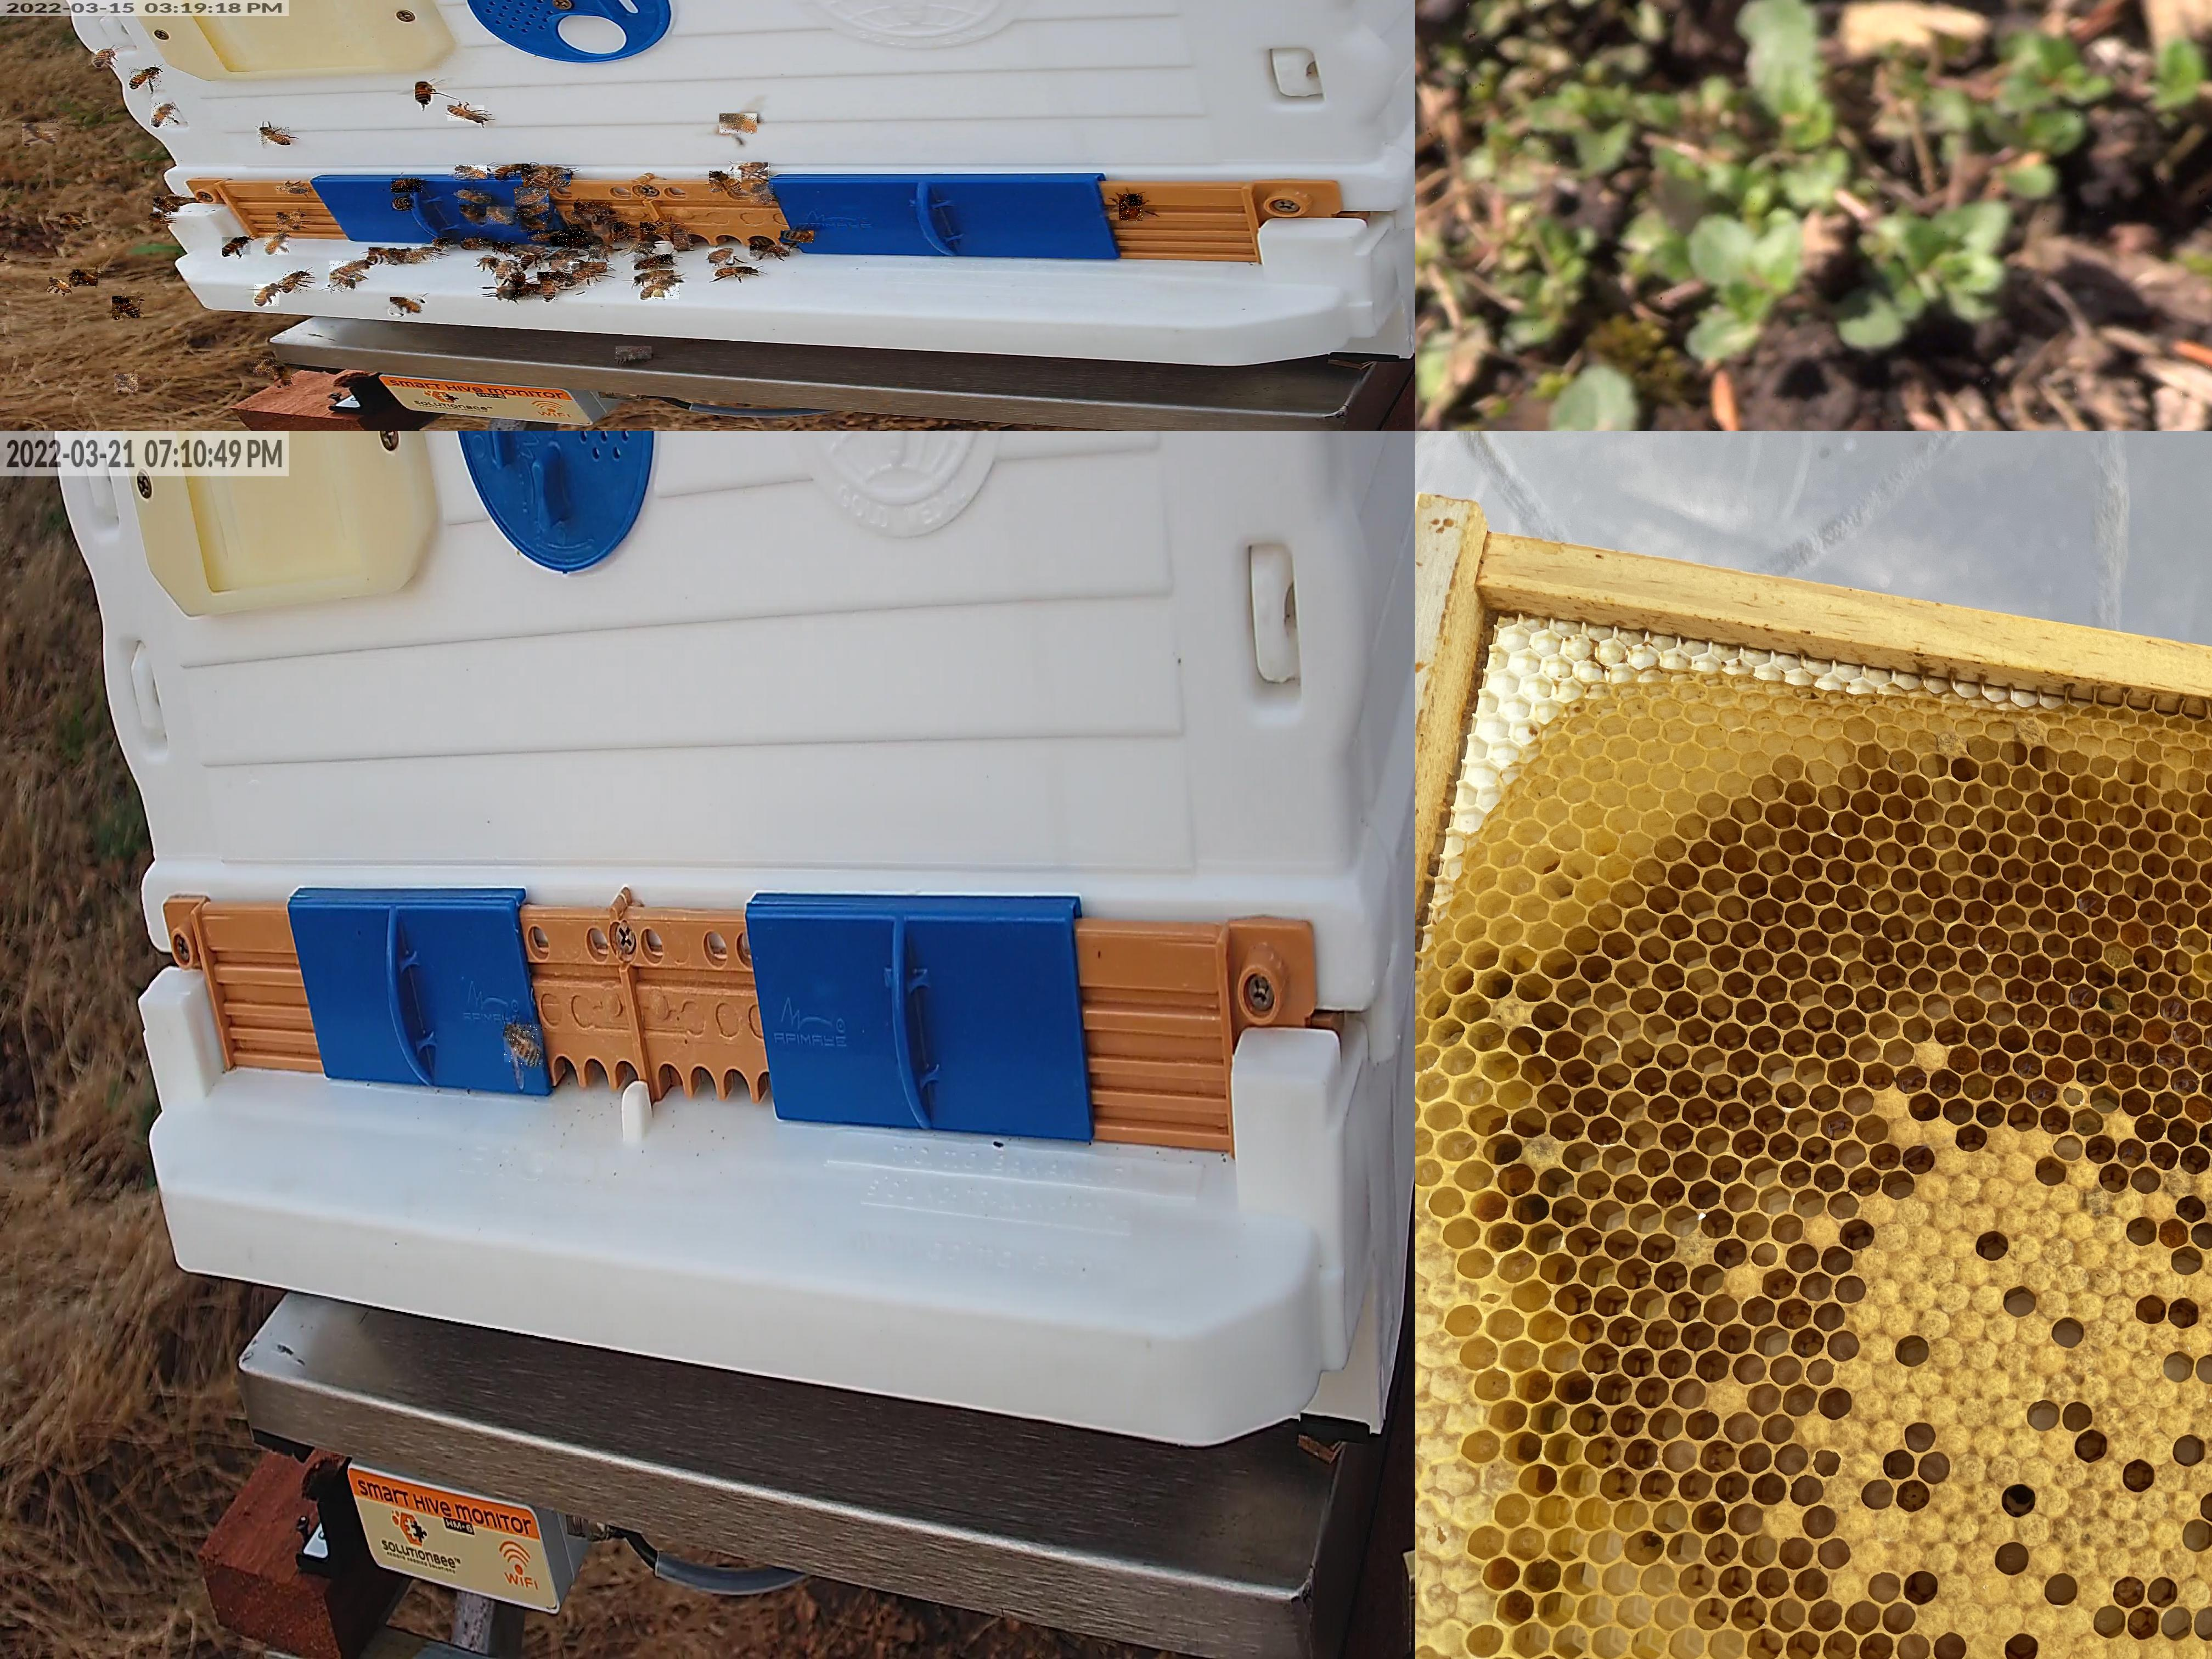bee: (505, 1026, 543, 1066), (719, 113, 758, 134), (523, 171, 571, 186), (733, 162, 772, 181), (23, 124, 57, 145), (1118, 193, 1144, 221), (514, 188, 550, 207), (129, 68, 162, 89), (533, 166, 566, 186), (709, 171, 742, 192), (113, 296, 141, 321), (331, 261, 368, 279), (563, 270, 596, 289), (390, 296, 423, 315), (448, 106, 488, 122), (634, 254, 674, 270), (256, 127, 291, 145), (254, 284, 280, 307), (223, 237, 253, 256), (152, 103, 174, 127), (282, 272, 308, 293), (615, 347, 653, 361), (550, 237, 594, 249), (496, 164, 529, 179), (517, 204, 550, 220), (408, 247, 441, 263), (510, 284, 543, 300), (751, 183, 775, 204), (265, 234, 289, 254), (392, 178, 423, 193), (575, 202, 615, 214), (751, 246, 791, 258), (634, 270, 674, 282), (488, 207, 516, 225), (521, 251, 549, 268), (460, 206, 484, 225), (153, 197, 183, 213), (329, 275, 359, 291), (455, 166, 488, 179), (458, 190, 491, 204), (641, 221, 674, 235), (277, 213, 303, 230), (528, 230, 571, 240), (512, 244, 549, 256), (71, 270, 99, 286), (59, 213, 82, 232), (615, 221, 632, 246), (780, 230, 815, 242), (253, 359, 277, 376), (115, 375, 139, 392), (718, 267, 758, 277), (92, 49, 113, 68), (674, 230, 693, 251), (496, 260, 517, 279), (549, 251, 580, 263), (709, 249, 733, 265), (571, 261, 608, 272), (571, 211, 590, 230), (538, 272, 573, 282), (542, 281, 559, 301), (275, 366, 293, 387), (388, 249, 411, 265), (521, 218, 549, 230), (49, 277, 70, 293), (369, 247, 395, 260), (416, 82, 430, 105), (589, 246, 611, 260), (277, 186, 310, 195), (462, 239, 488, 249), (552, 260, 578, 270), (392, 199, 413, 211), (493, 242, 517, 253), (631, 242, 653, 253), (570, 225, 585, 239), (498, 286, 514, 300), (481, 258, 500, 268), (594, 225, 610, 237), (512, 272, 524, 288), (435, 239, 453, 247), (150, 214, 164, 223)
pollenbee: (641, 277, 681, 300)
